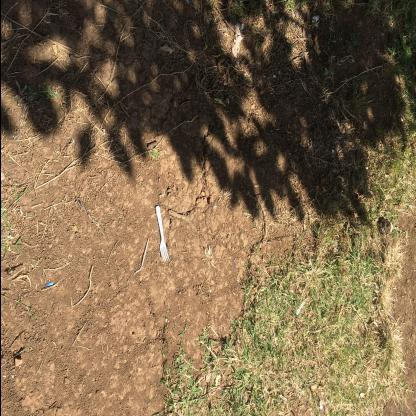plastik: (156, 206, 170, 264), (136, 240, 150, 274)
